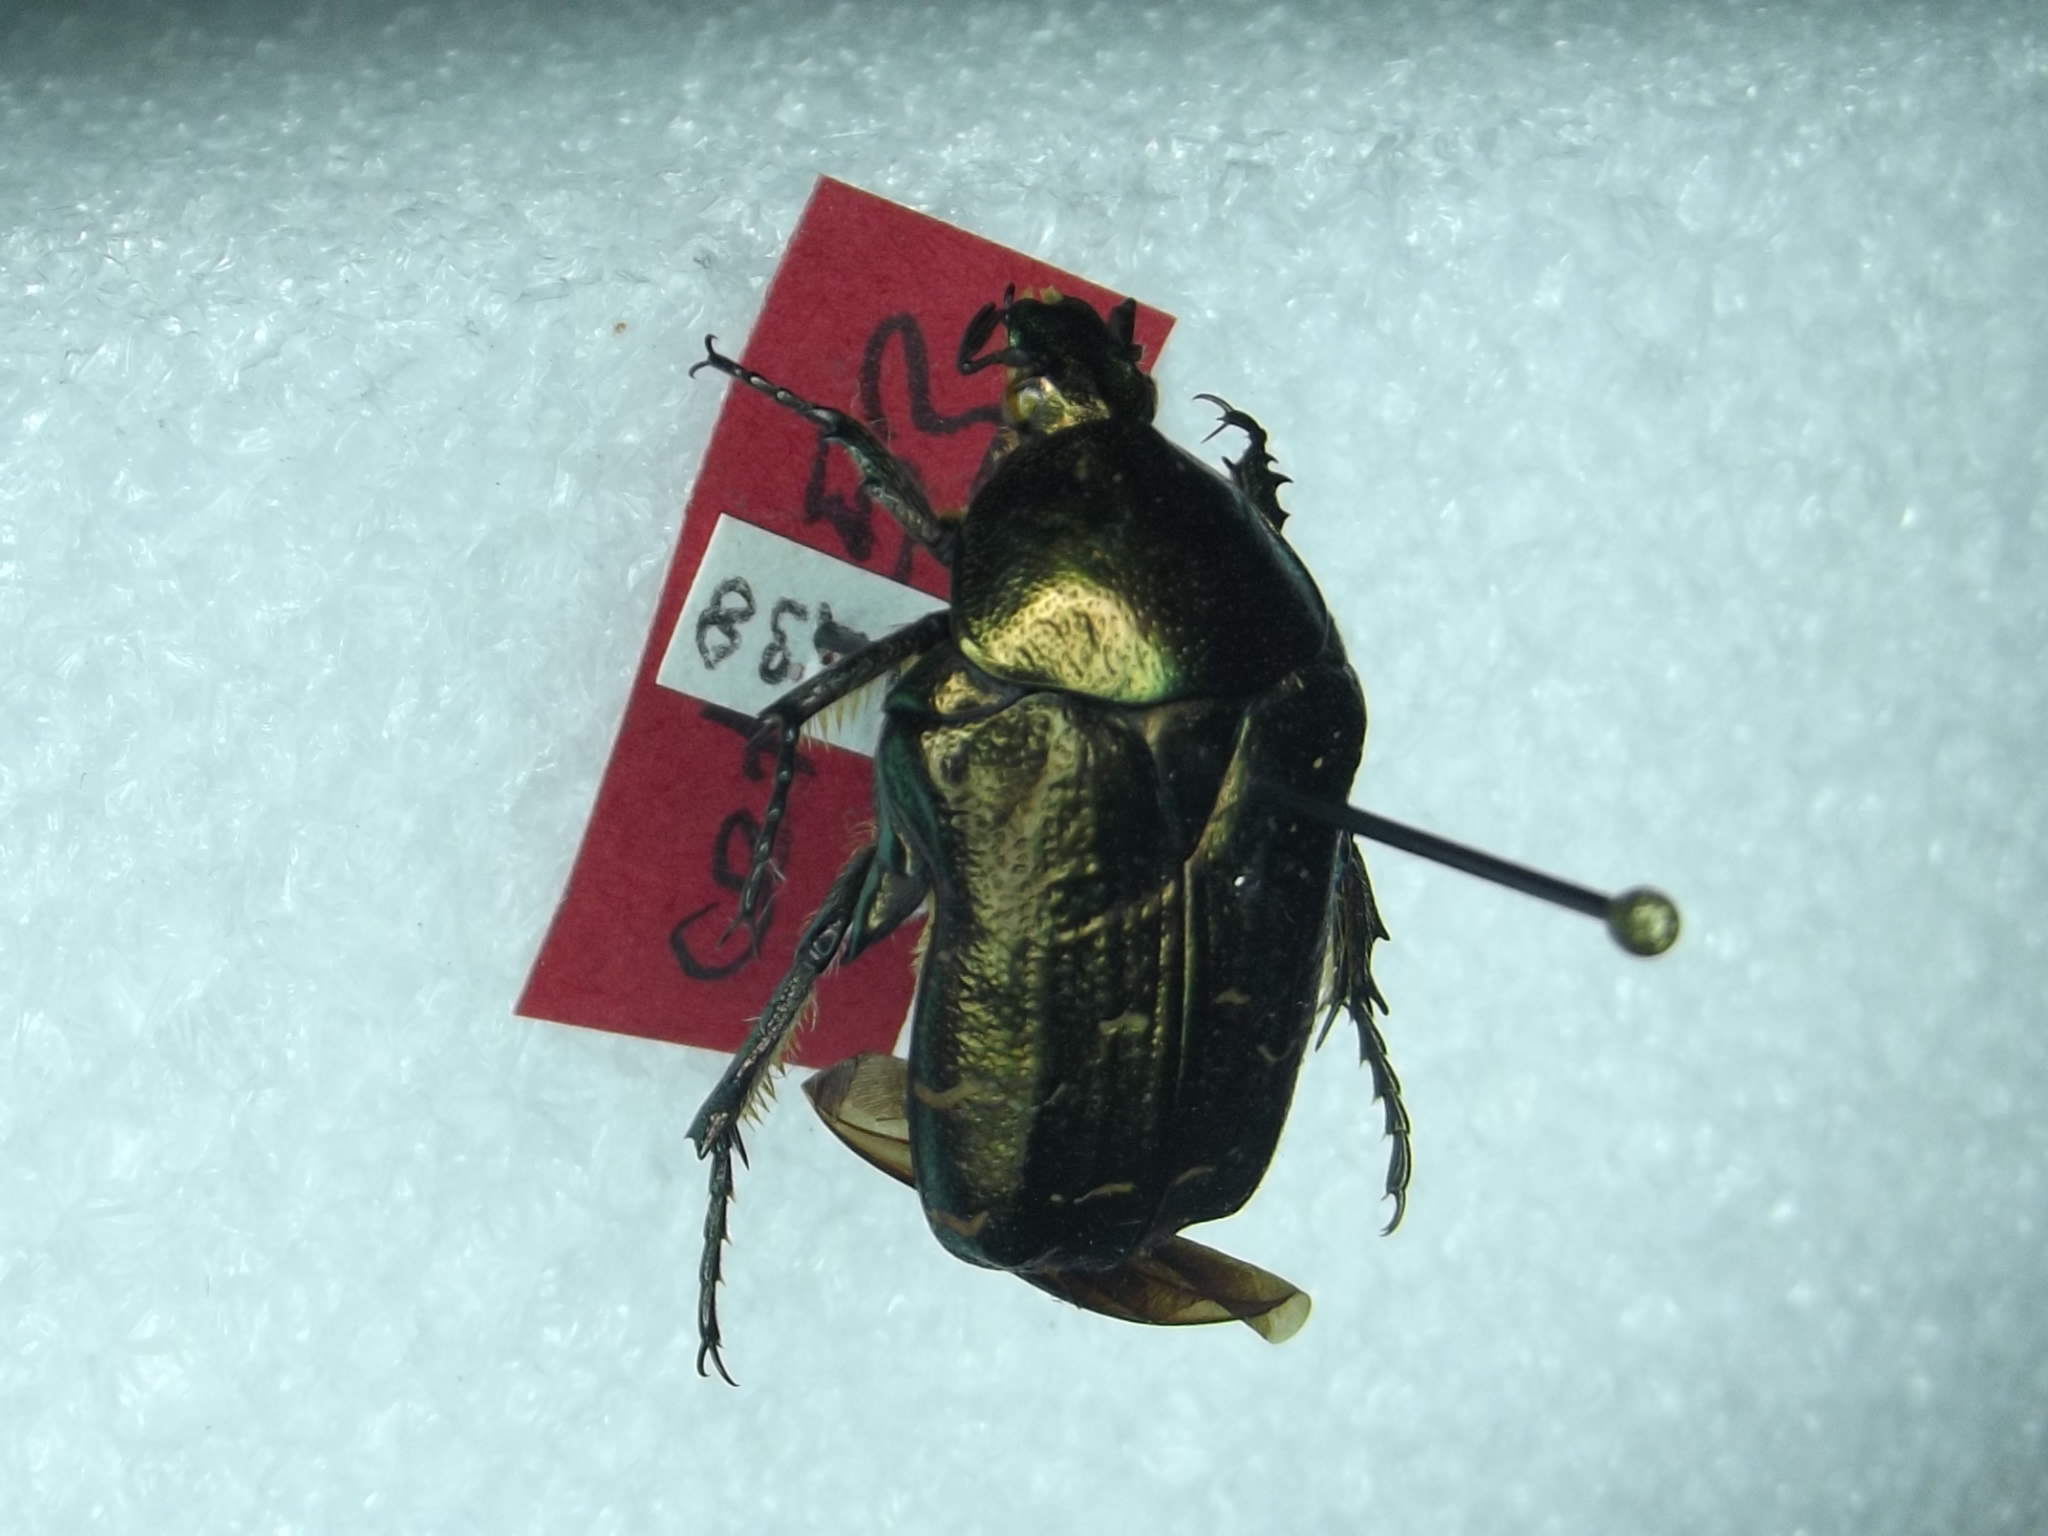Cetonia_kemali: (647, 245, 1447, 1355)
